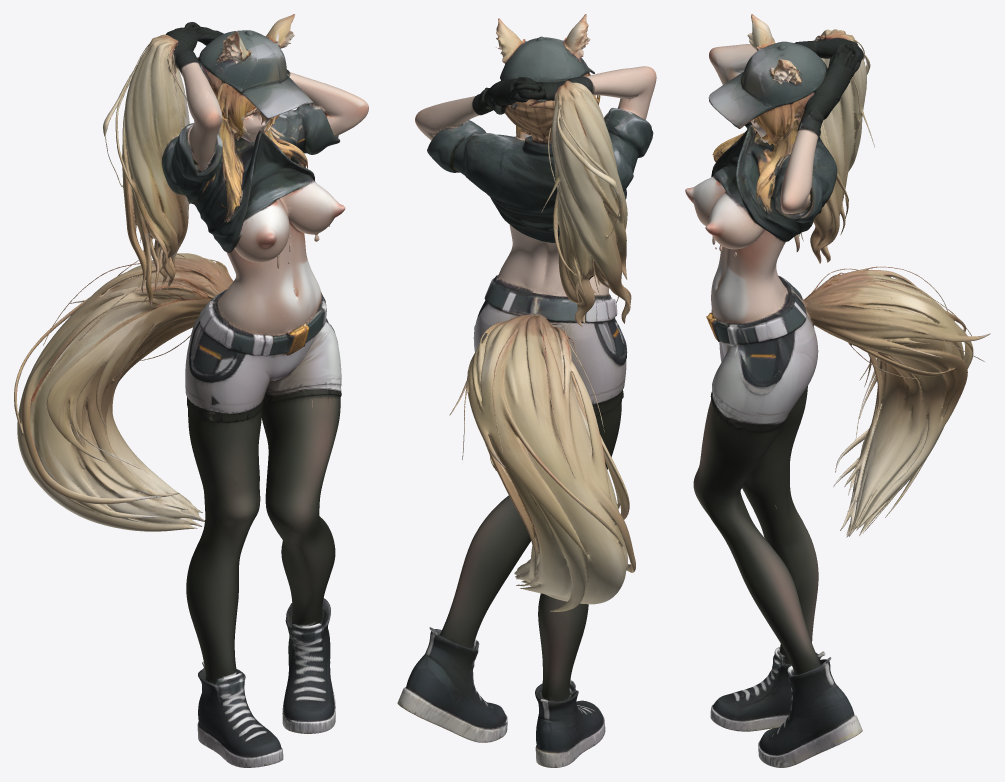
File: Meshy_AI_Kitsune_Scout_in_the__0317201315_texture.fbx
3 views of the same model, side by side, from view 1: azimuth 30°, elevation 25°; view 2: azimuth 150°, elevation 25°; view 3: azimuth 270°, elevation 25° (orthographic). The views are drawn at different scales.
Parts seen in each view (by area): view 1: Mesh_0; view 2: Mesh_0; view 3: Mesh_0.
Boxes of the visible parts, x1,y1,x2,y2 form: Mesh_0: (14, 14, 368, 767); Mesh_0: (397, 14, 656, 767); Mesh_0: (685, 14, 990, 767).
Size of the model in its own units: 75.84 by 190 by 74.77.
1 material, 1 textured.
